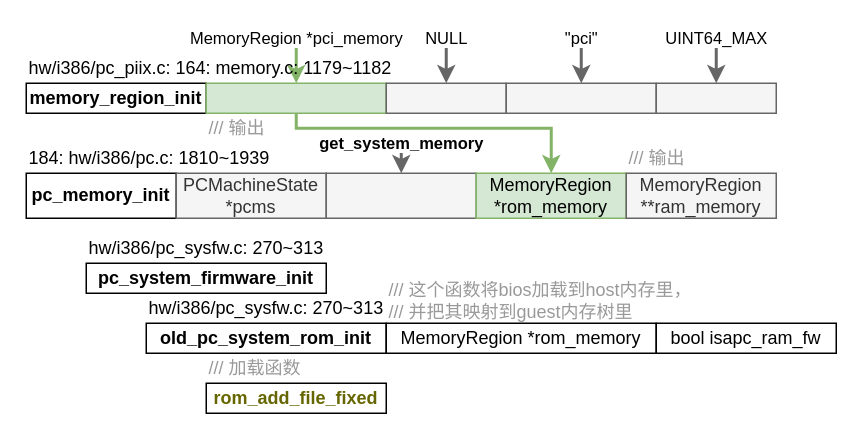
This 863x440 diagram has some shape labels left out. Here are the shapes that lost their labels. From the top down, the centre of each, then its label:
point (295, 97): MemoryRegion *mr
point (445, 97): Object *owner
point (580, 97): const char *name
point (715, 97): uint64_t size
point (400, 195): MemoryRegion *system_memory
